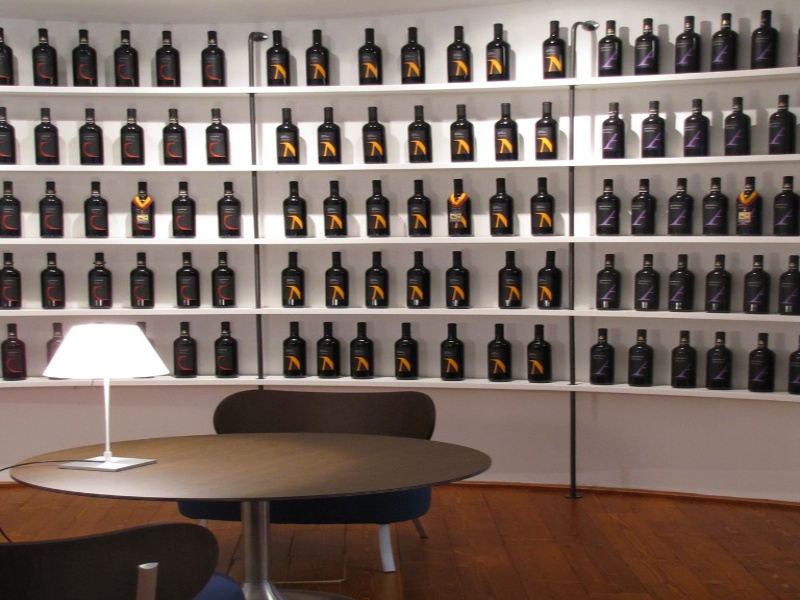wine: (255, 10, 573, 390), (3, 6, 240, 379), (590, 4, 800, 390)
